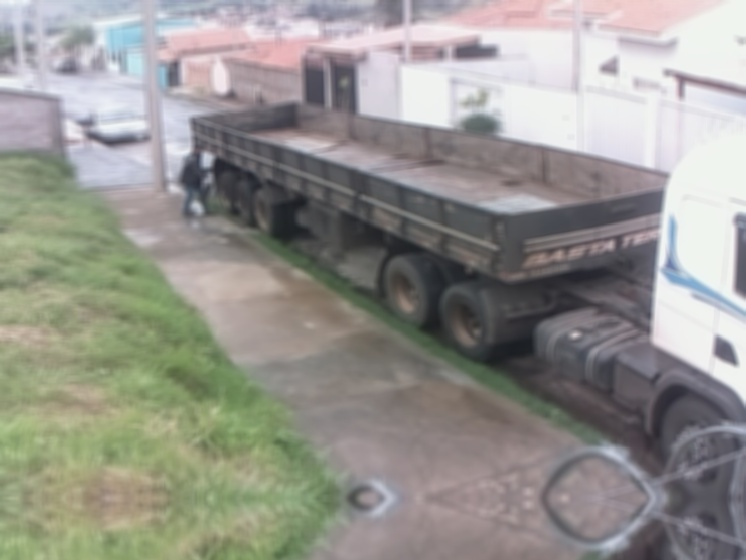person: (177, 141, 217, 218)
